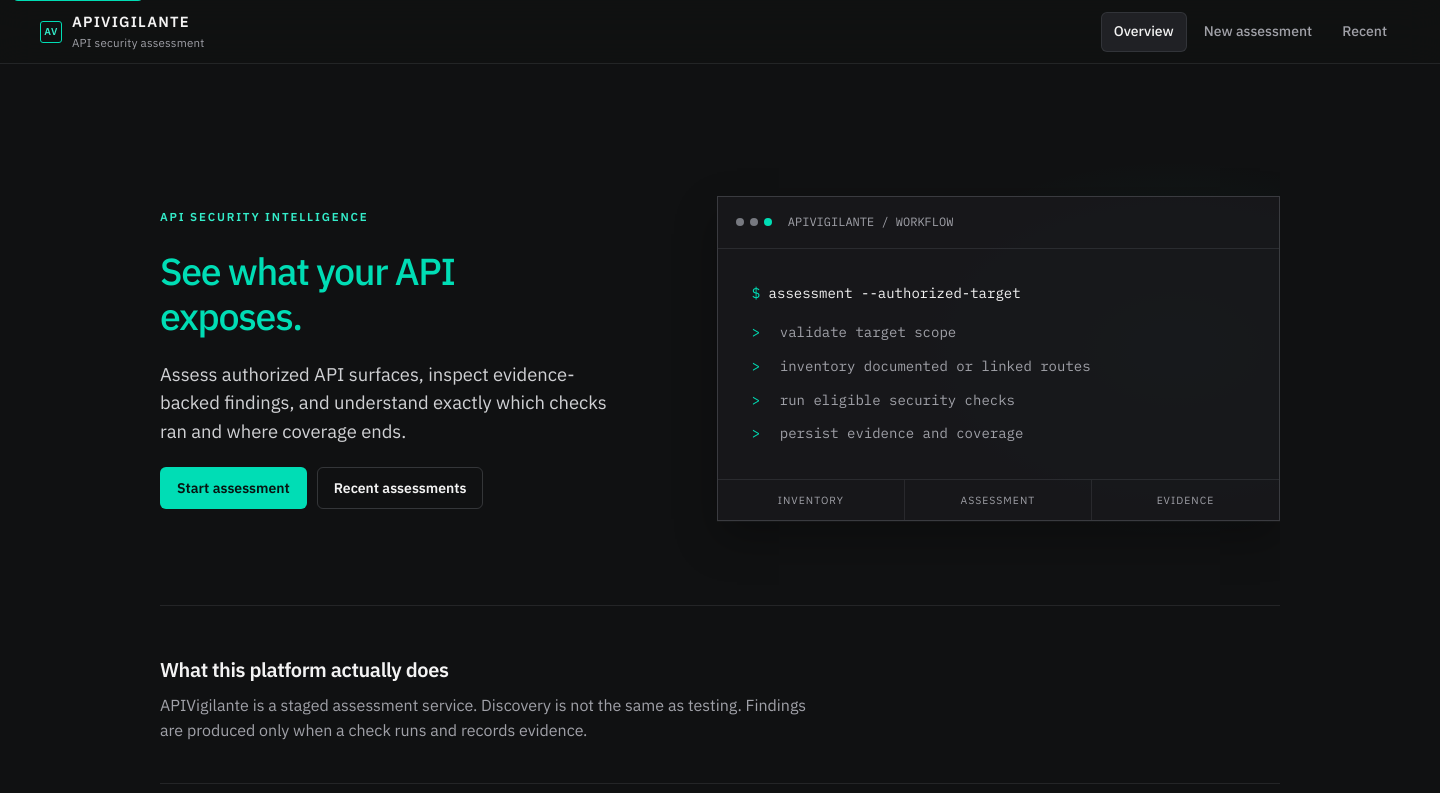
APIVigilante application › navigates between overview, new assessment, and recent
What coordinates should you click on to do the following:
click the link "New assessment"
I would click on:
 (1258, 31)
Its box is top-left (1204, 22), bottom-right (1312, 40).
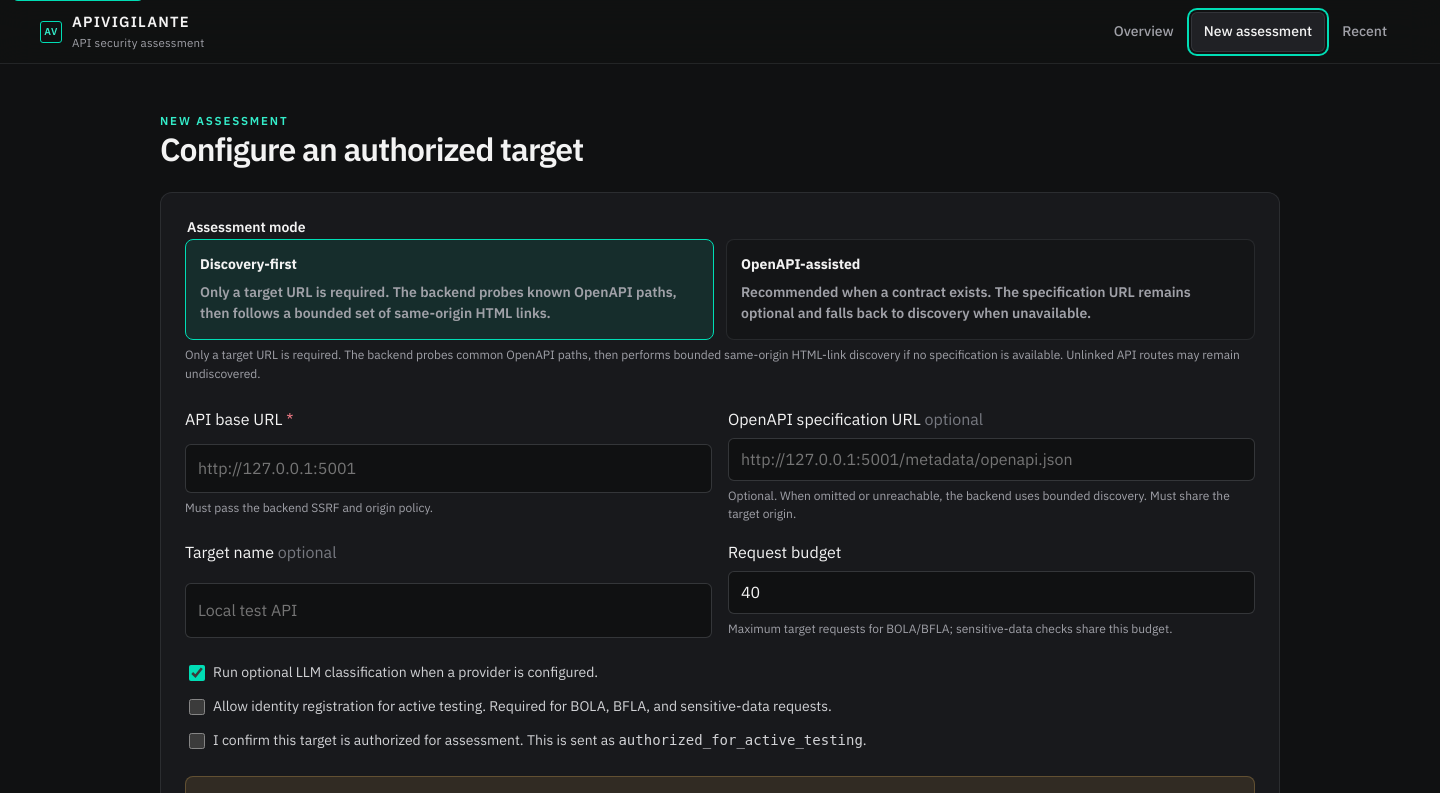
Expected: the heading "Configure an authorized target" is shown, top-left (160, 130), bottom-right (583, 168)
What coordinates should you click on to do the following:
click the link "Recent"
I would click on:
 (1365, 31)
Its box is top-left (1342, 22), bottom-right (1387, 40).
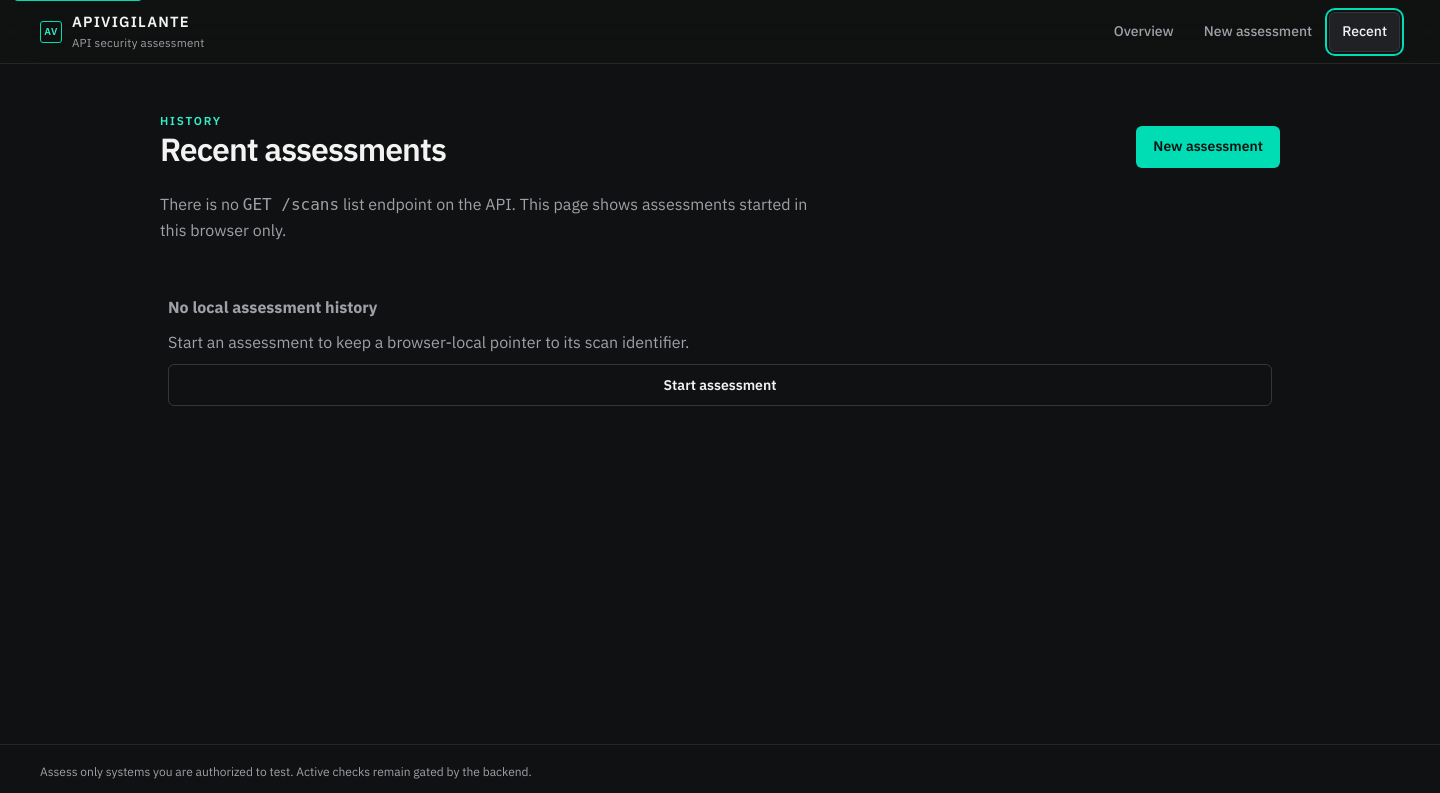
Expected: the heading "Recent assessments" is shown, top-left (160, 130), bottom-right (446, 168)
Expected: the text "There is no" shows "GET /scans", top-left (243, 195), bottom-right (339, 214)
